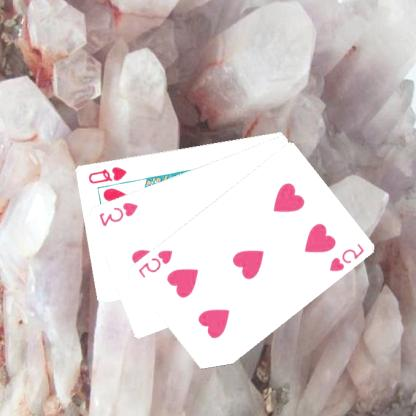3H: (98, 198, 141, 228)
5H: (137, 246, 175, 280), (328, 241, 367, 273)
QH: (87, 163, 130, 185)
